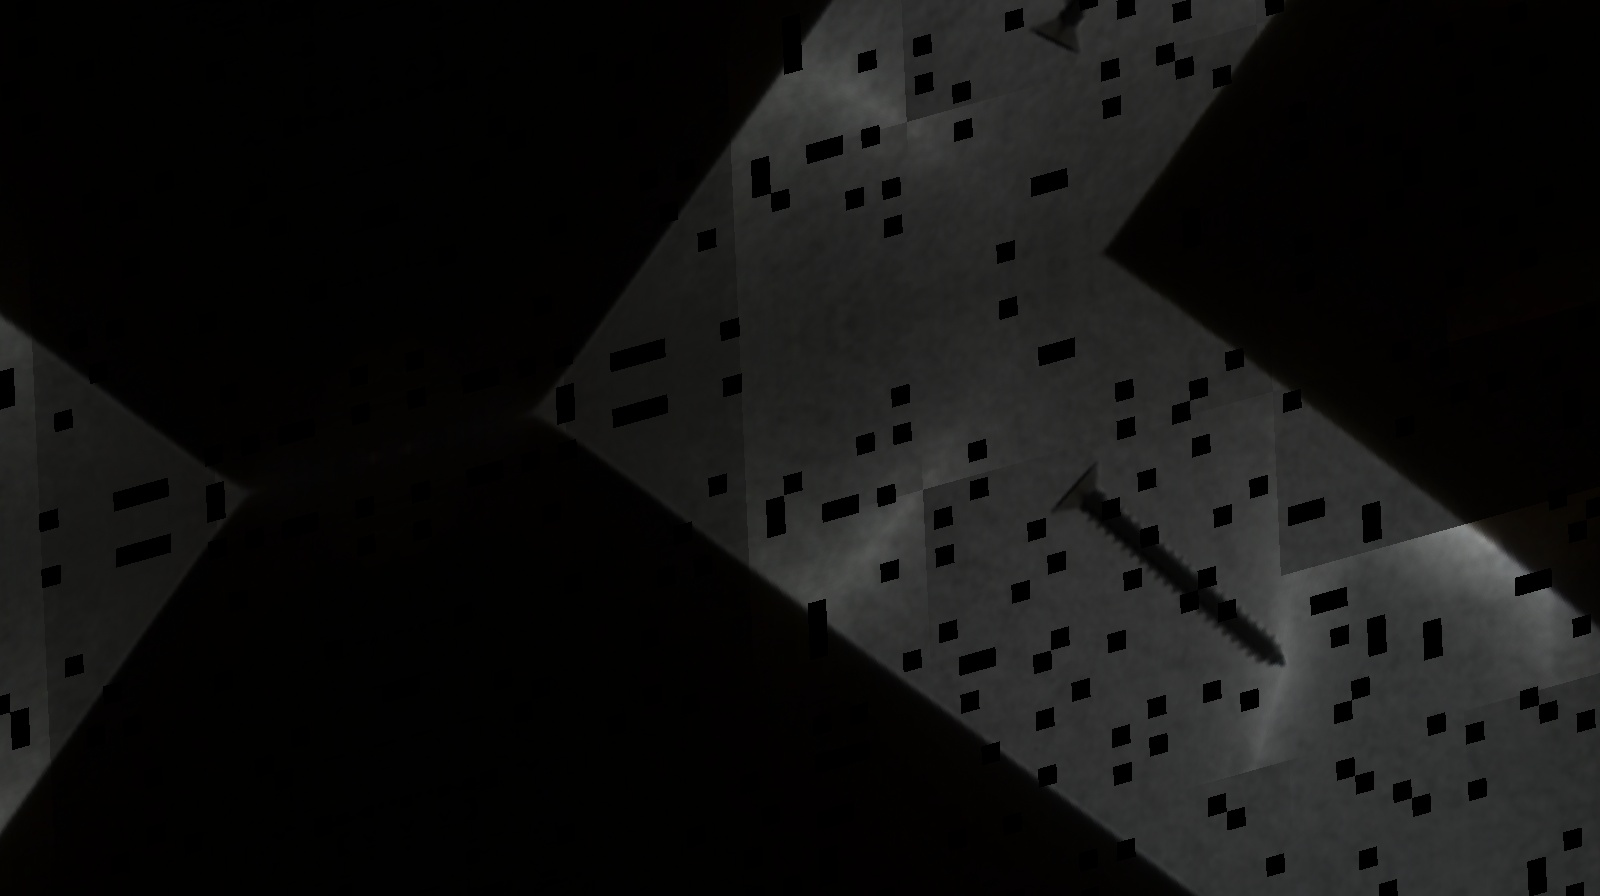S002: (1046, 407, 1295, 732)
